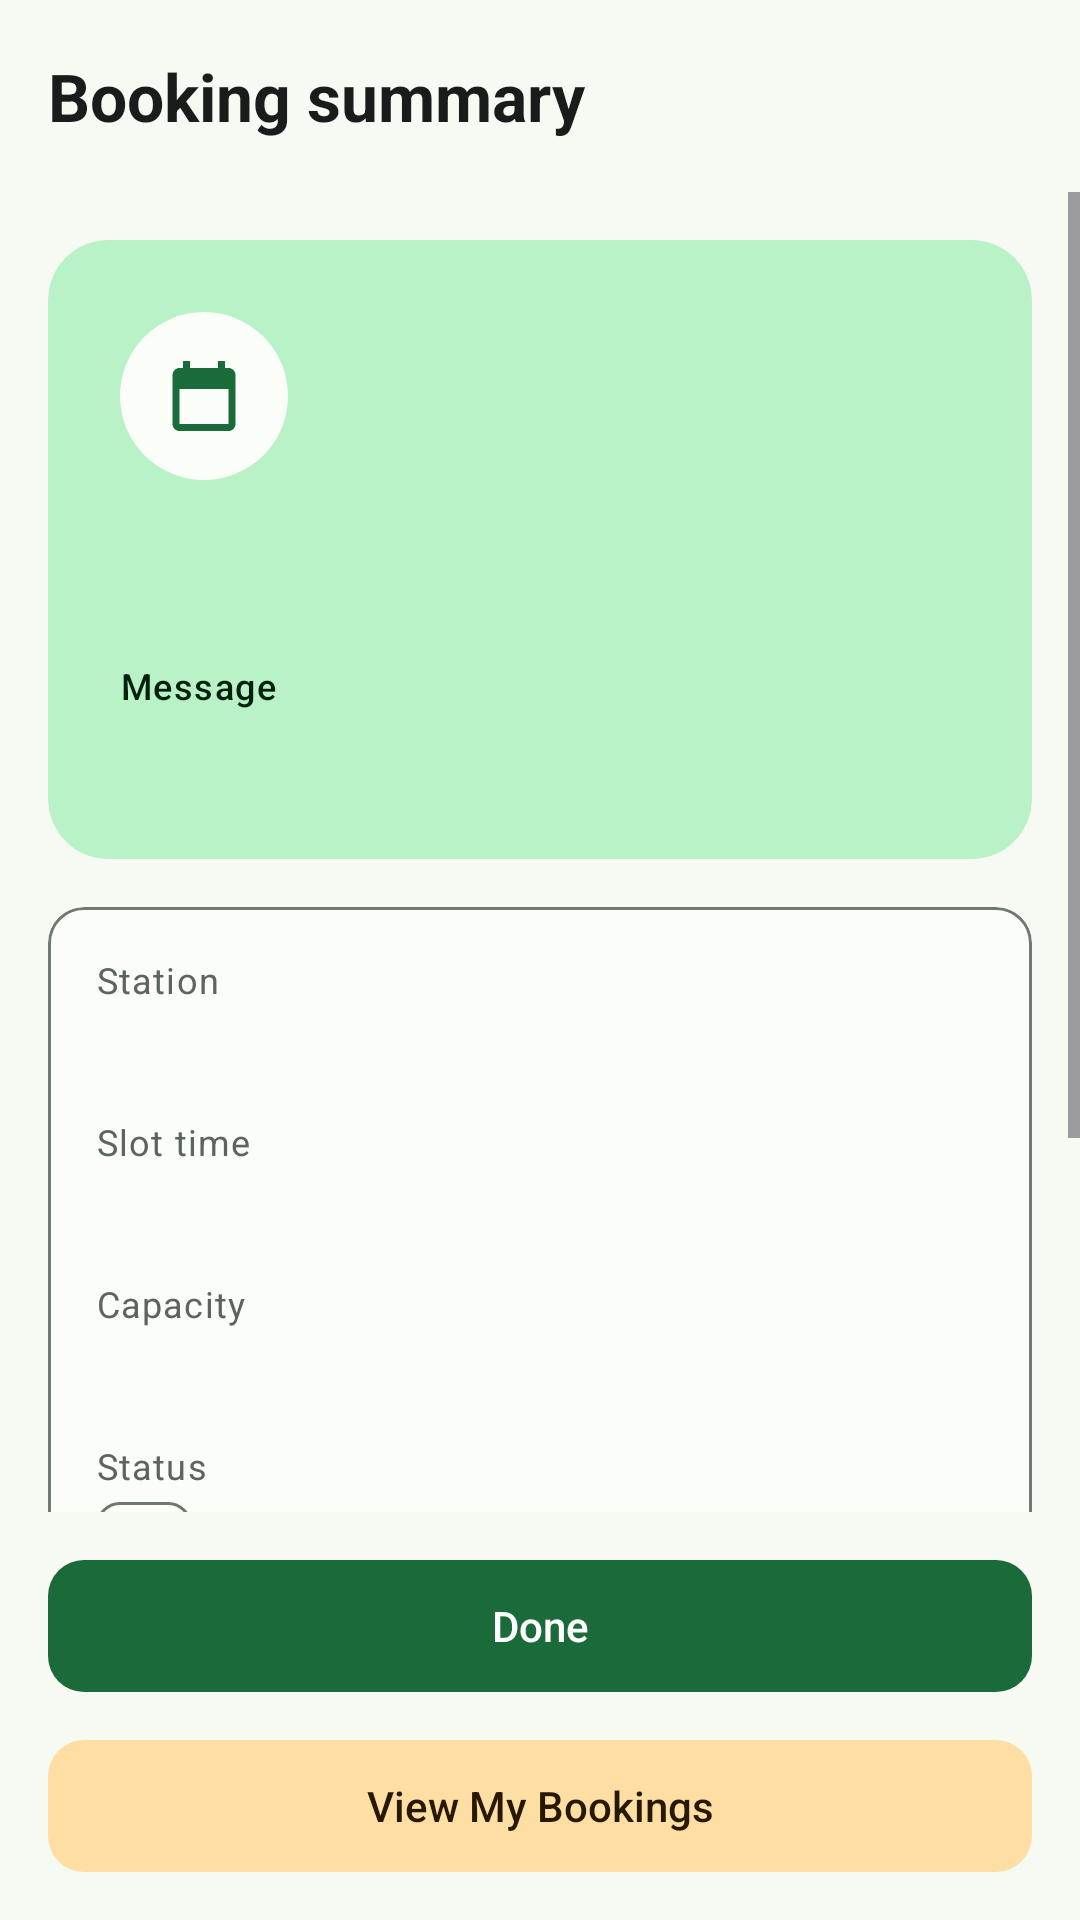

Screen size 1080px×1920px. Icon name, then its box in pixels as [x1, y1, x2, y2]:
event: [120, 312, 288, 480]
